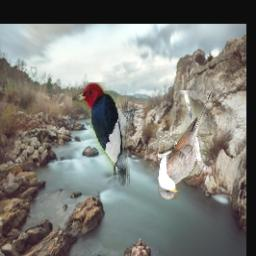Cuckoo: (158, 90, 212, 199)
Woodpecker: (73, 83, 136, 188)
